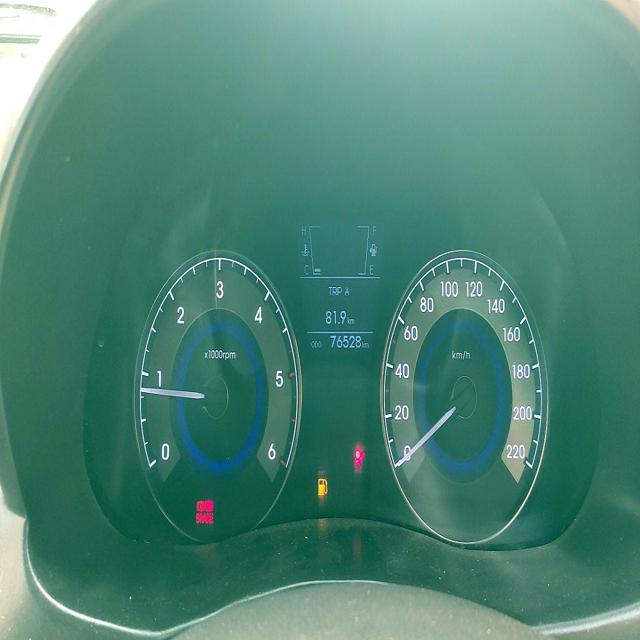odometer: (327, 333, 362, 352)
